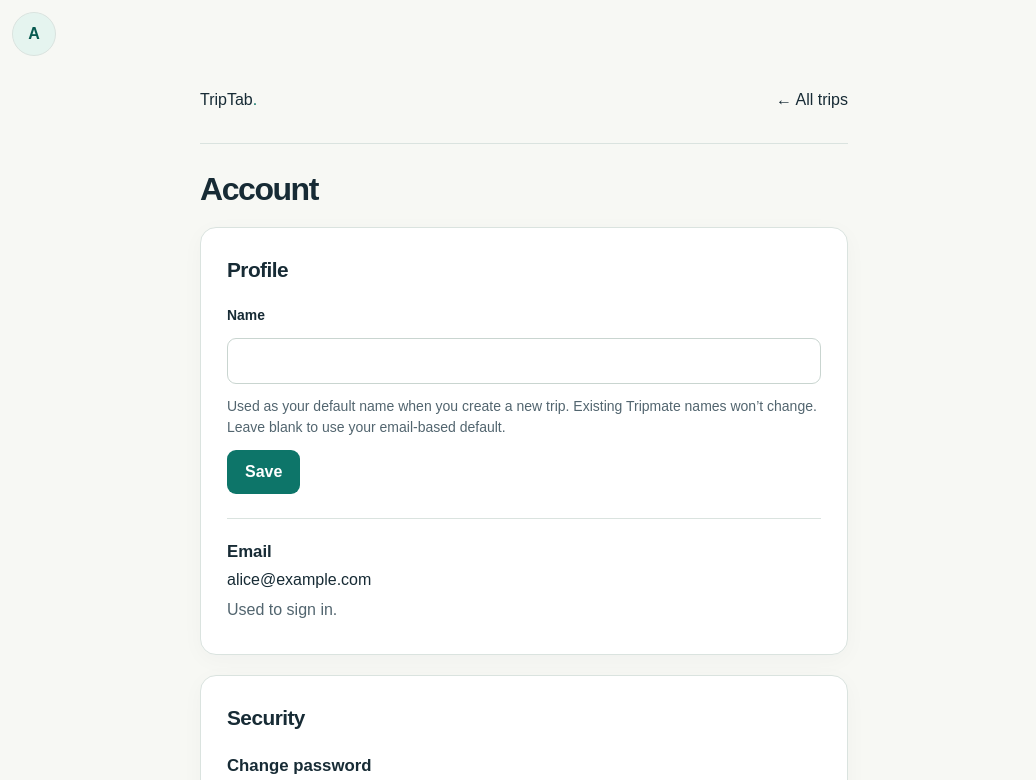
Test: shows null name, immutable email, explanation and app-level navigation
The image size is (1036, 780).
Expected: the field labelled "Name" is empty, [227, 338, 821, 384]
Expected: the text "Existing Tripmate names won’t change" is shown, [227, 398, 817, 435]
Click the button named "Account menu": coordinates (34, 34) [12, 12, 56, 56]
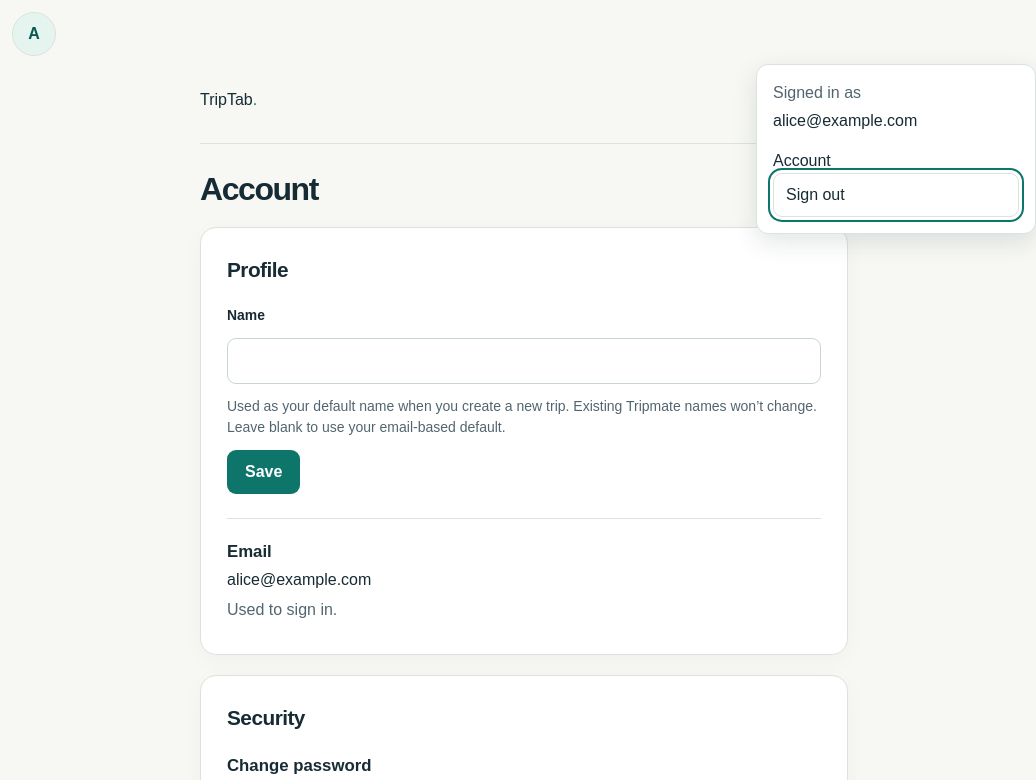
Expected: the button "Sign out" is shown, [773, 173, 1019, 217]
